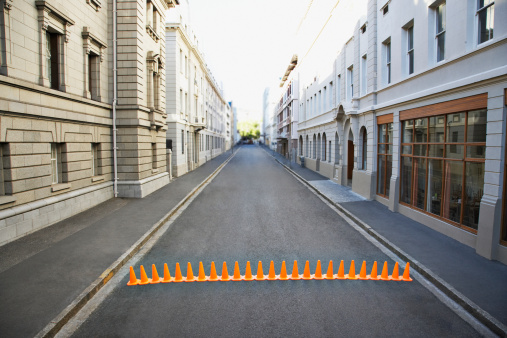trafficcone: (127, 265, 140, 286), (230, 261, 243, 282), (289, 259, 301, 281), (242, 261, 255, 281), (172, 262, 184, 283), (207, 261, 219, 282), (266, 260, 278, 281), (278, 260, 290, 281), (313, 259, 325, 280), (347, 259, 359, 280), (150, 263, 161, 285), (161, 263, 173, 283), (301, 260, 313, 280), (401, 262, 413, 282), (255, 260, 266, 281), (325, 259, 336, 280), (336, 259, 347, 280), (185, 263, 196, 283), (196, 262, 207, 282), (219, 261, 230, 281), (358, 260, 369, 280), (379, 261, 390, 281), (390, 261, 401, 281), (368, 260, 378, 280), (140, 265, 149, 285)
